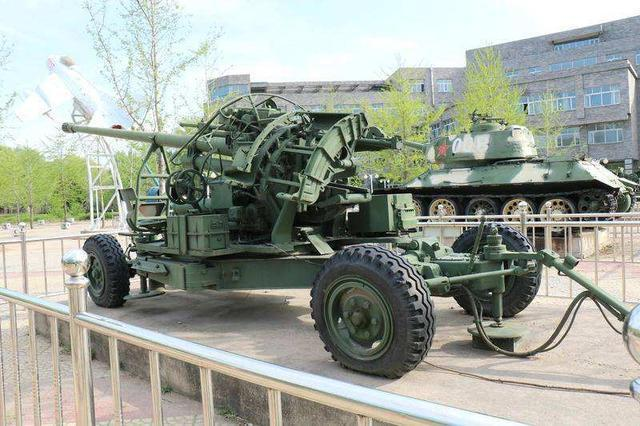MIL_SPG: (68, 95, 540, 377), (402, 118, 634, 216)
